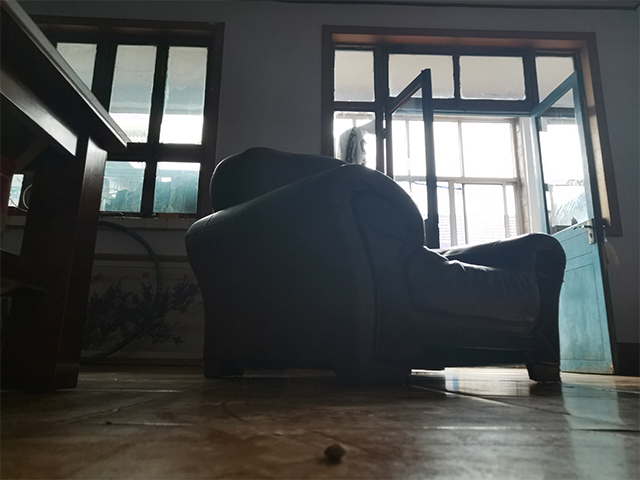feces: (321, 441, 350, 464)
sofa: (187, 144, 569, 386)
